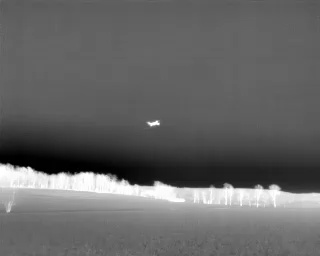DRONE: (142, 114, 166, 134)
